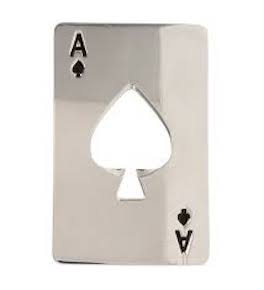AceOfSpades: (45, 20, 217, 271)
